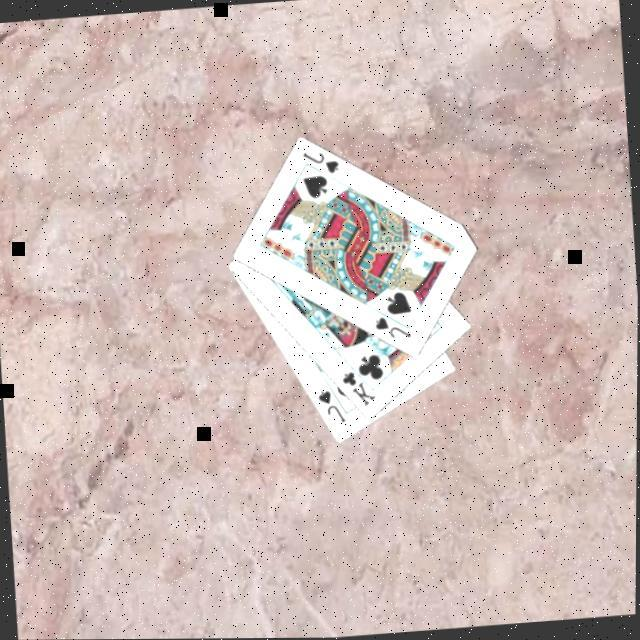JS: (314, 384, 350, 426), (300, 144, 344, 178), (371, 309, 415, 342)
KC: (339, 357, 380, 410)
